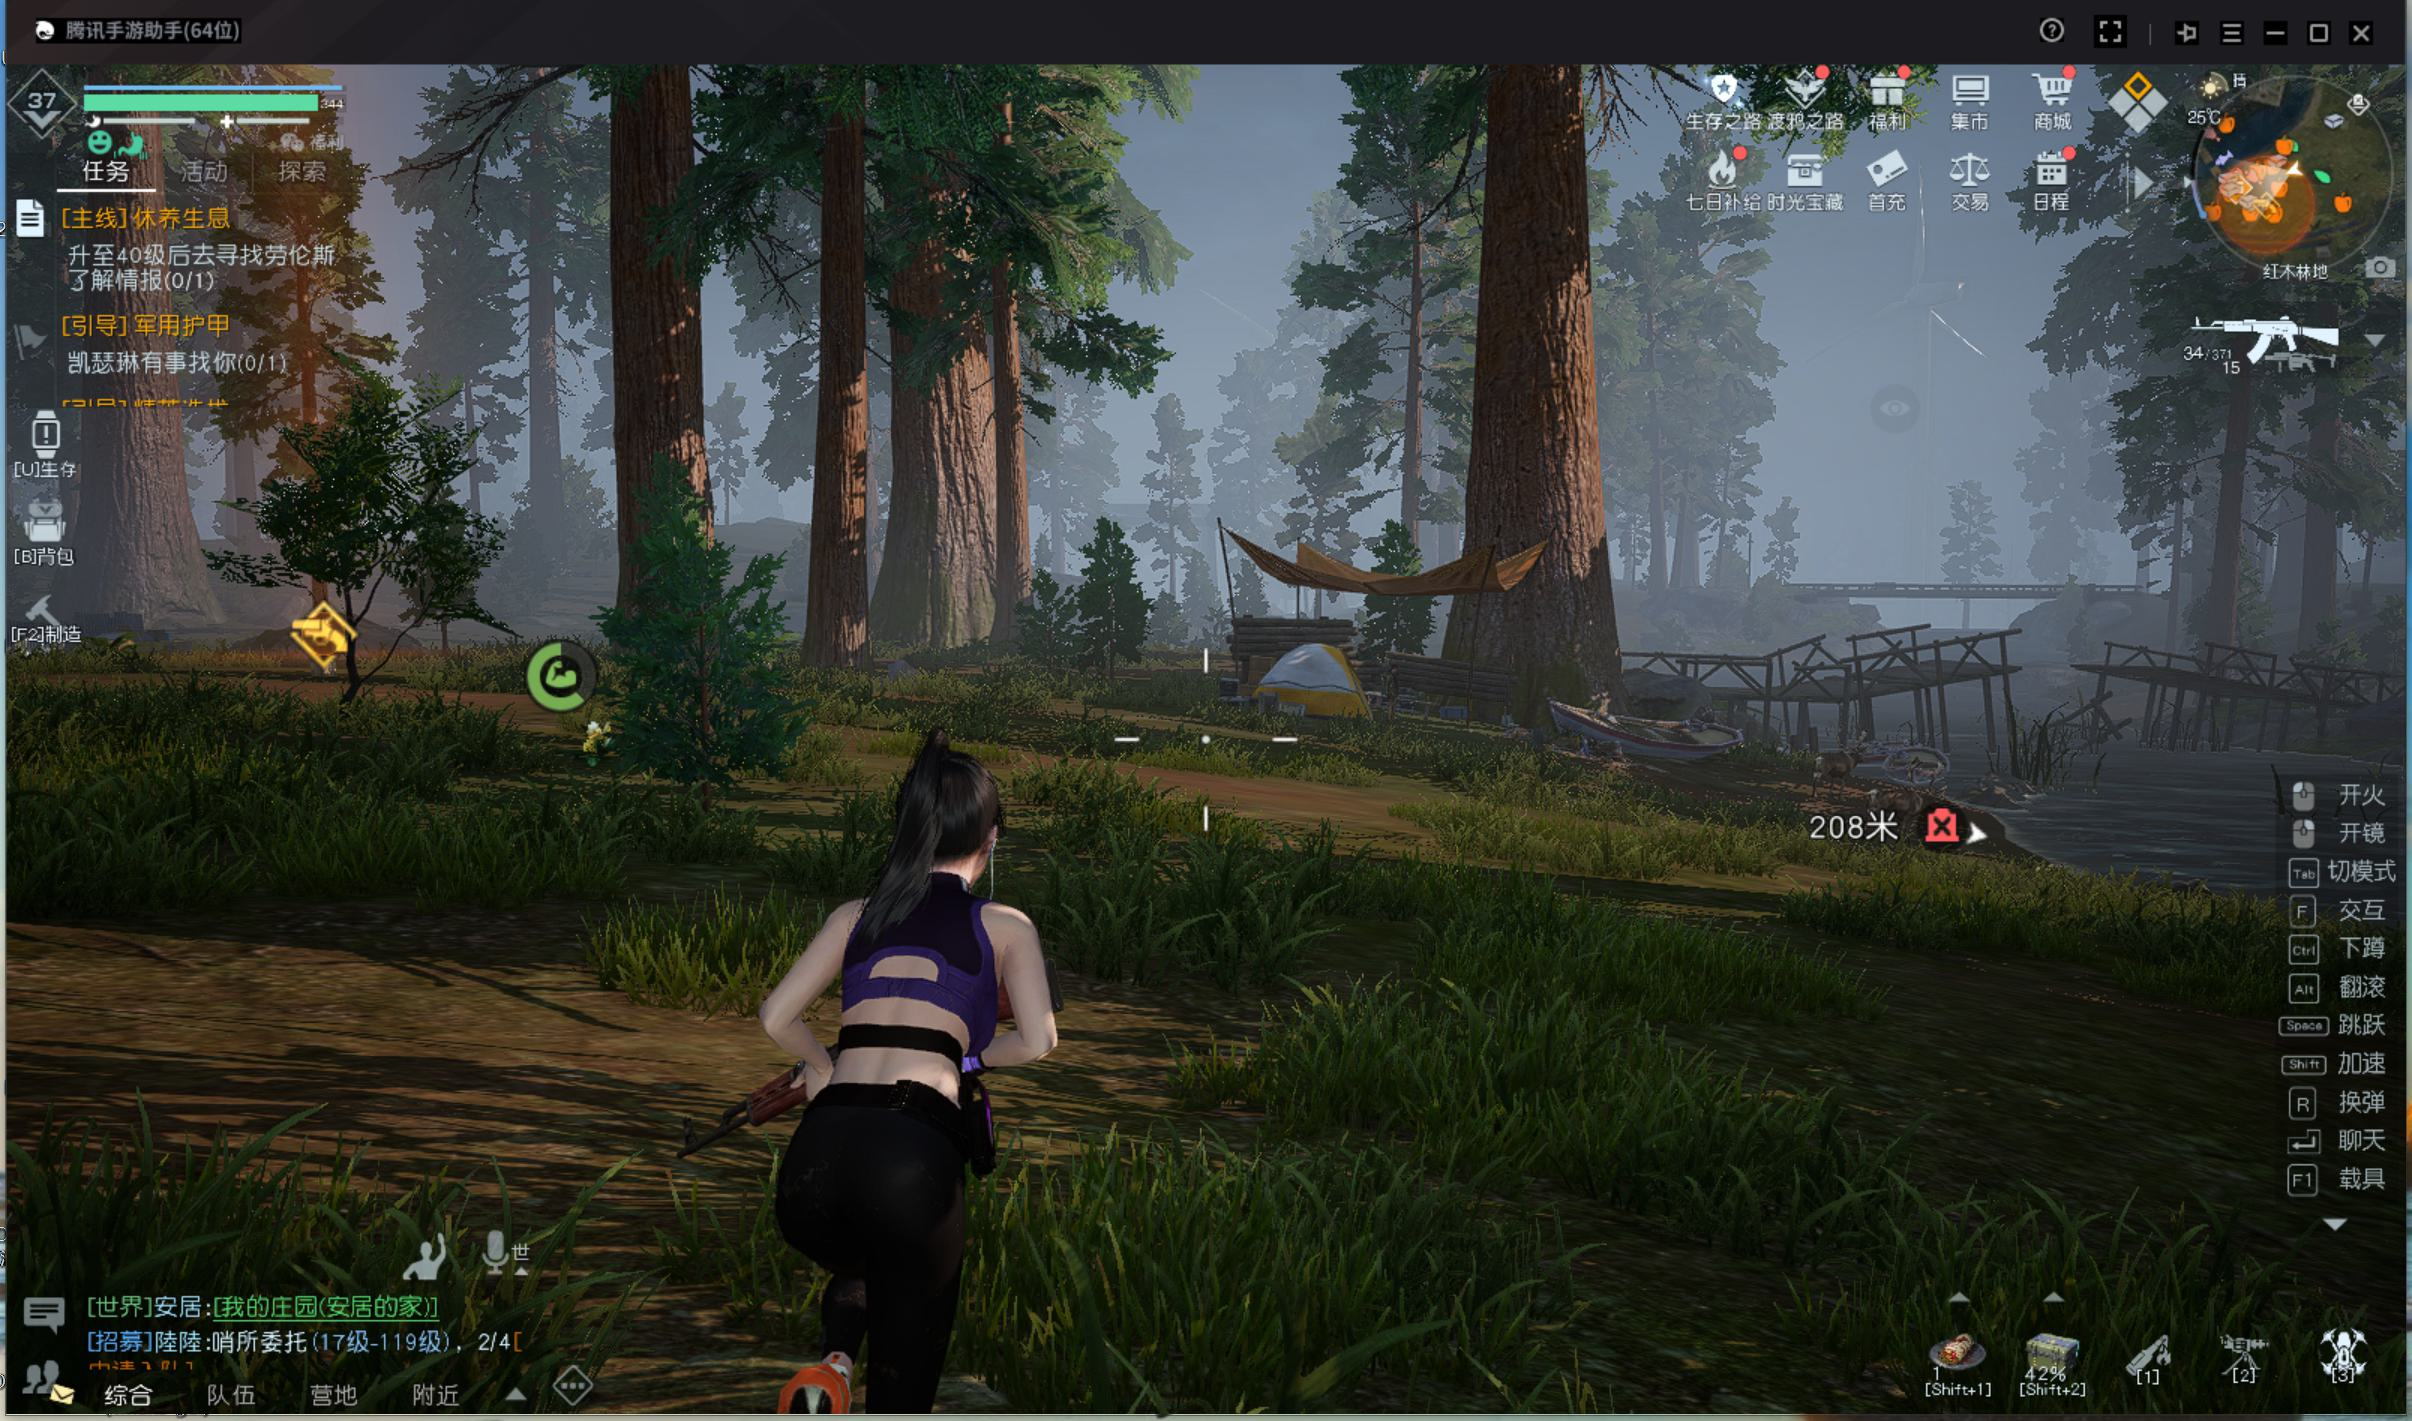tree: (1456, 184, 1629, 744), (602, 196, 727, 761), (803, 210, 878, 685), (979, 284, 1035, 689)
